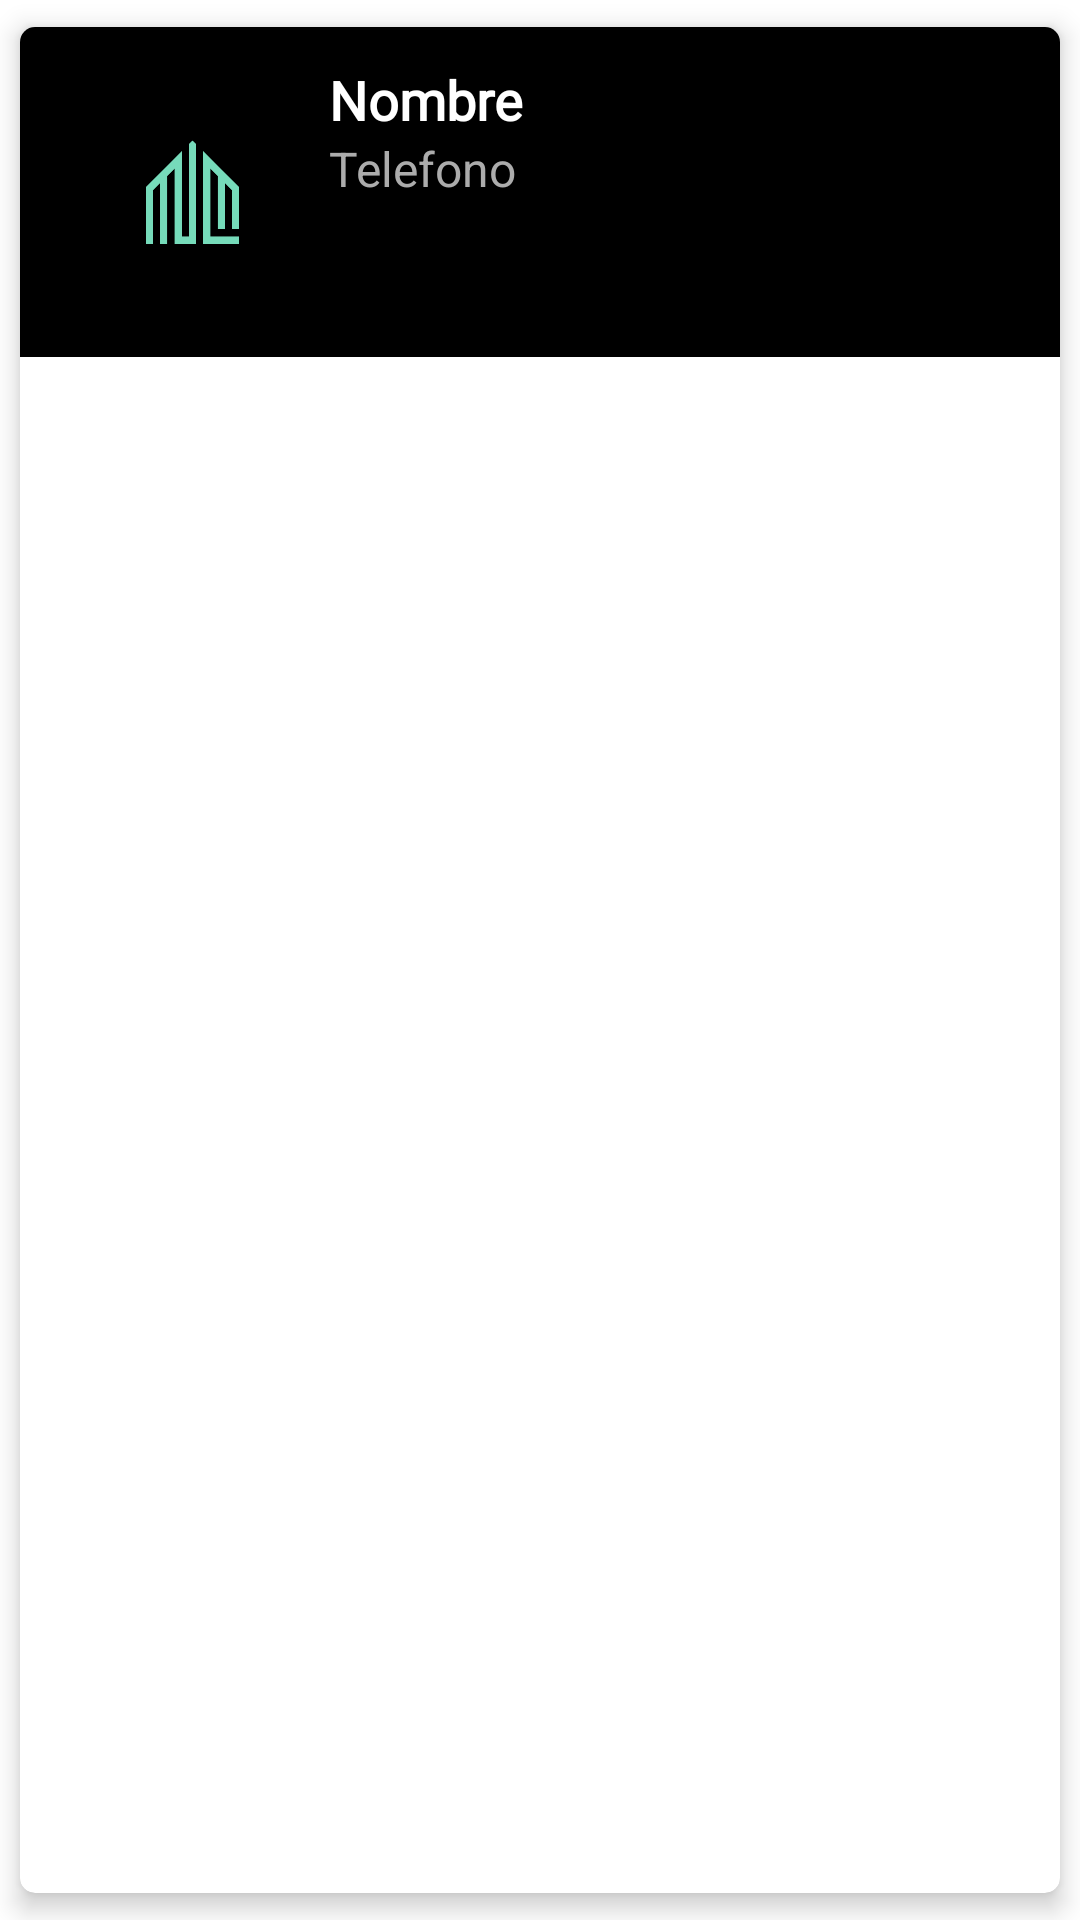

Icons on this 1080 × 1920 Android screen, each with its box as (x1, y1, x2, y2):
ichome: (146, 140, 239, 244)
